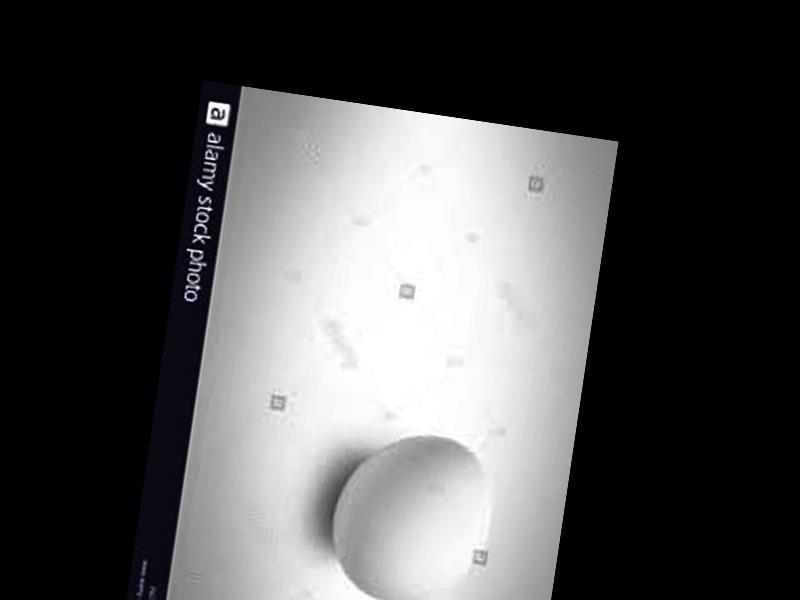Eggs: (321, 425, 498, 600)
